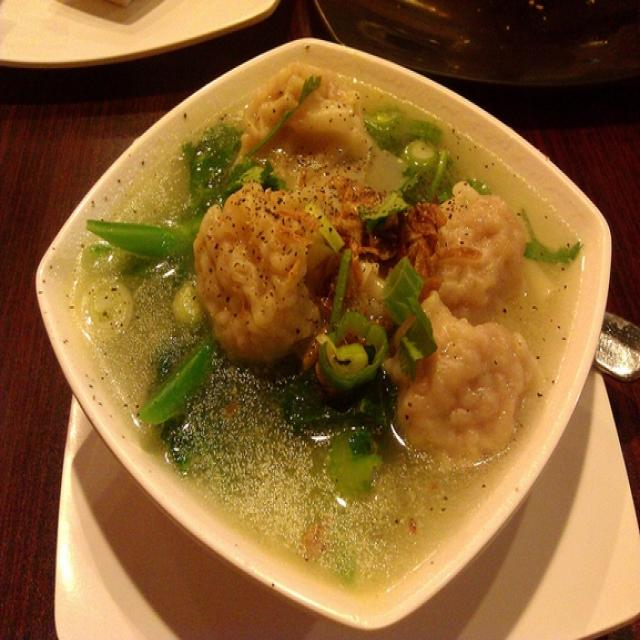汤锅炖物: (46, 31, 604, 610)
